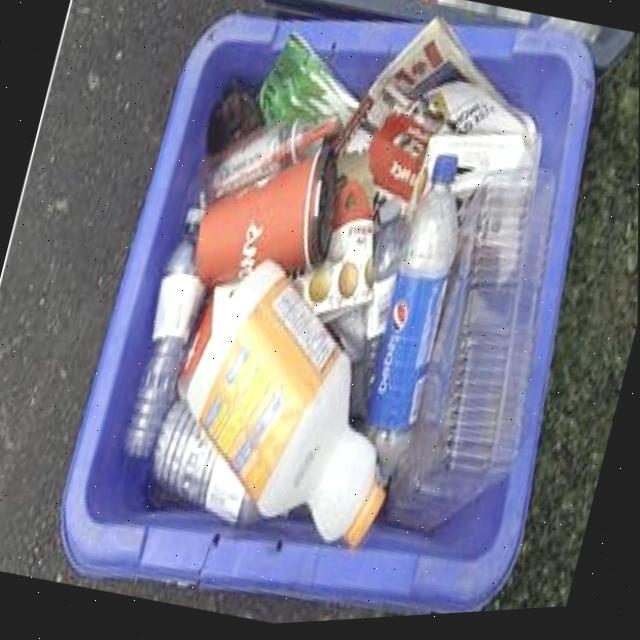Garbage: (62, 15, 593, 619)
Glass_bottle: (368, 158, 456, 485)
Plastic_Container: (385, 169, 554, 534)
Plastic_bottle: (186, 266, 382, 547)
